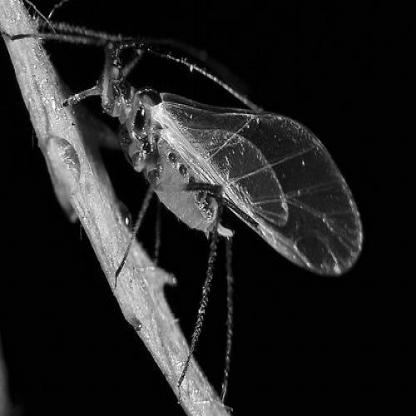aphid: (53, 5, 368, 393)
